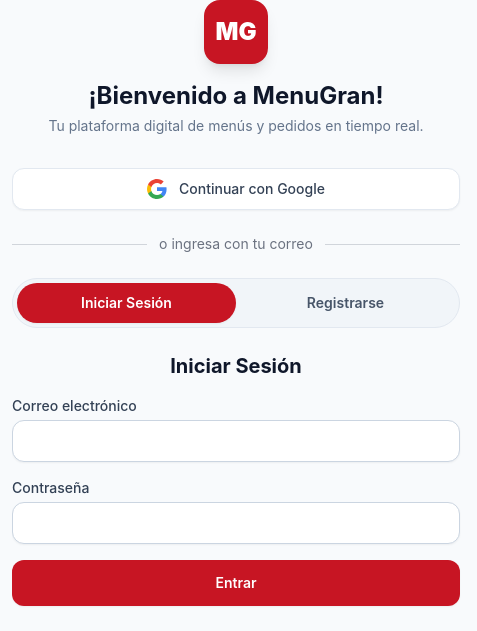
it: AuthForm › muestra spinner y deshabilita el botón de Google mientras carga
Click the button "Continuar con Google". click: [236, 189]
box: left=12, top=168, right=460, bottom=210
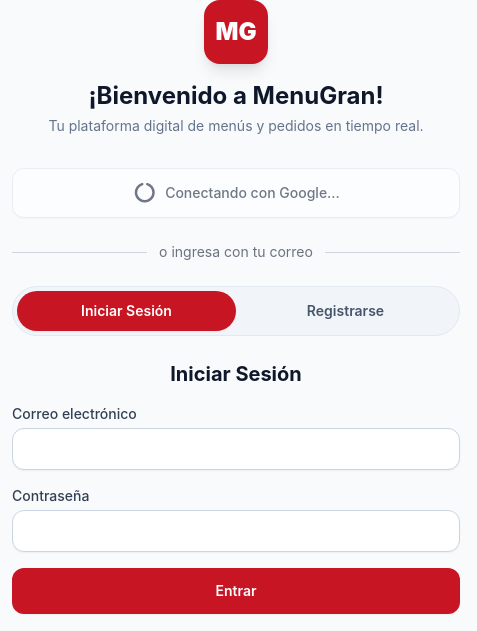
Now the text "Conectando con Google..." is shown, box left=132, top=179, right=340, bottom=207
Now the button with test id "google-signin" is disabled, box left=12, top=168, right=460, bottom=218
